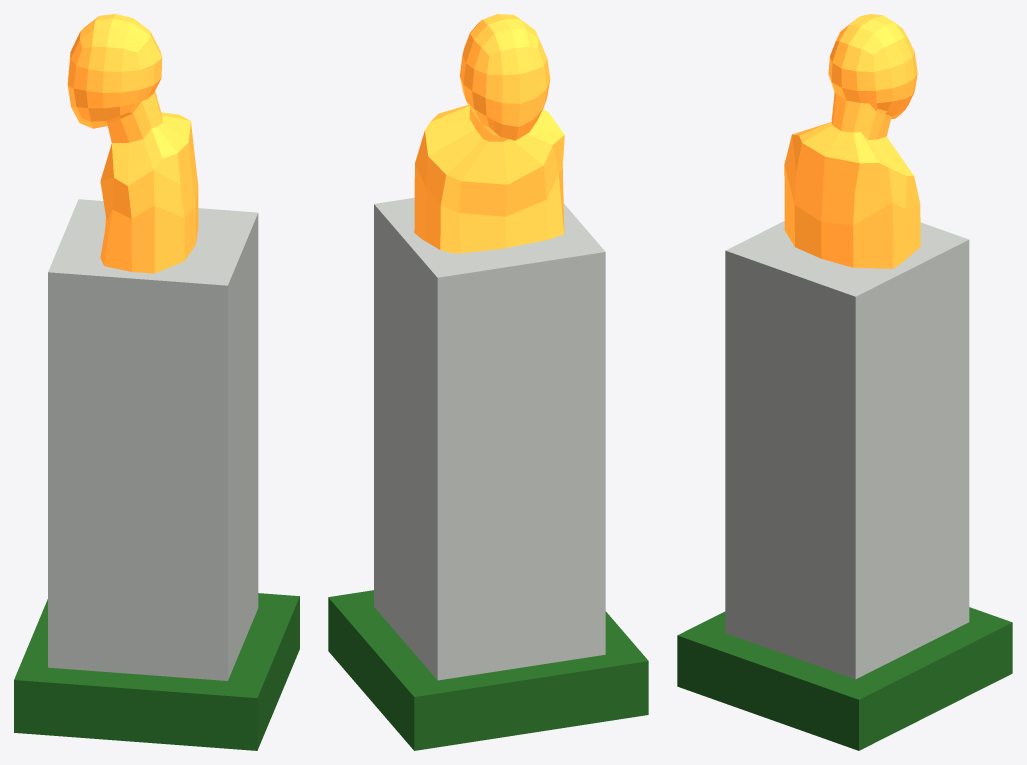
Rendered from monumento.gltf.
3 views of the same model, side by side, from view 1: azimuth 30°, elevation 25°; view 2: azimuth 150°, elevation 25°; view 3: azimuth 270°, elevation 25° (orthographic). The views are drawn at different scales.
Parts seen in each view (by area): view 1: Monumento, Base, Cube.003; view 2: Monumento, Cube.003, Base; view 3: Monumento, Cube.003, Base.
Part boxes in pixels (box(x1,y1,x2,y2)): Monumento: box(48, 199, 258, 680); Base: box(14, 593, 299, 750); Cube.003: box(67, 14, 198, 273); Monumento: box(374, 197, 605, 680); Cube.003: box(414, 14, 564, 253); Base: box(328, 590, 648, 750); Monumento: box(725, 221, 969, 679); Cube.003: box(784, 14, 920, 268); Base: box(677, 607, 1012, 750).
Size of the model in its own units: 0.8691 by 1.85 by 0.8684.
